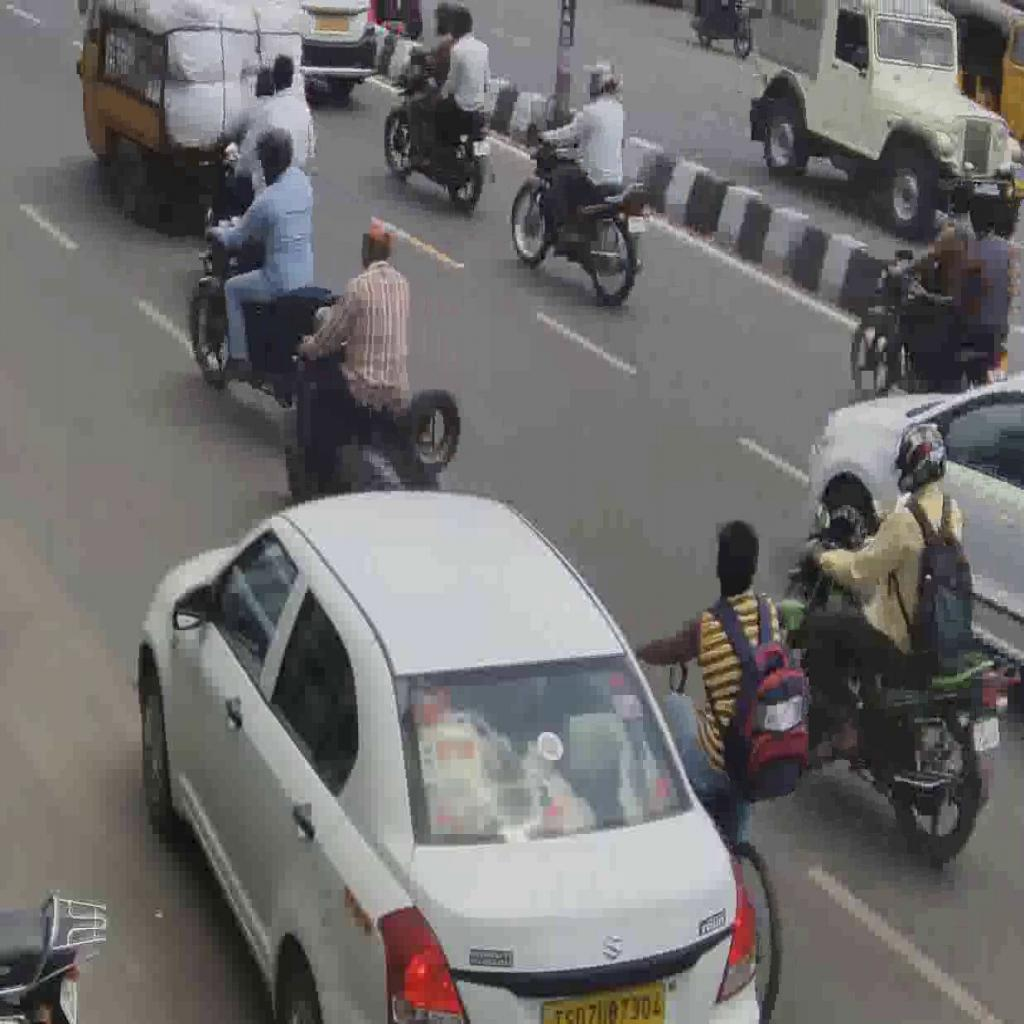helmet: (773, 511, 1015, 863), (284, 302, 462, 506), (188, 202, 340, 414), (511, 120, 649, 306), (851, 247, 1007, 399), (384, 51, 492, 212)
